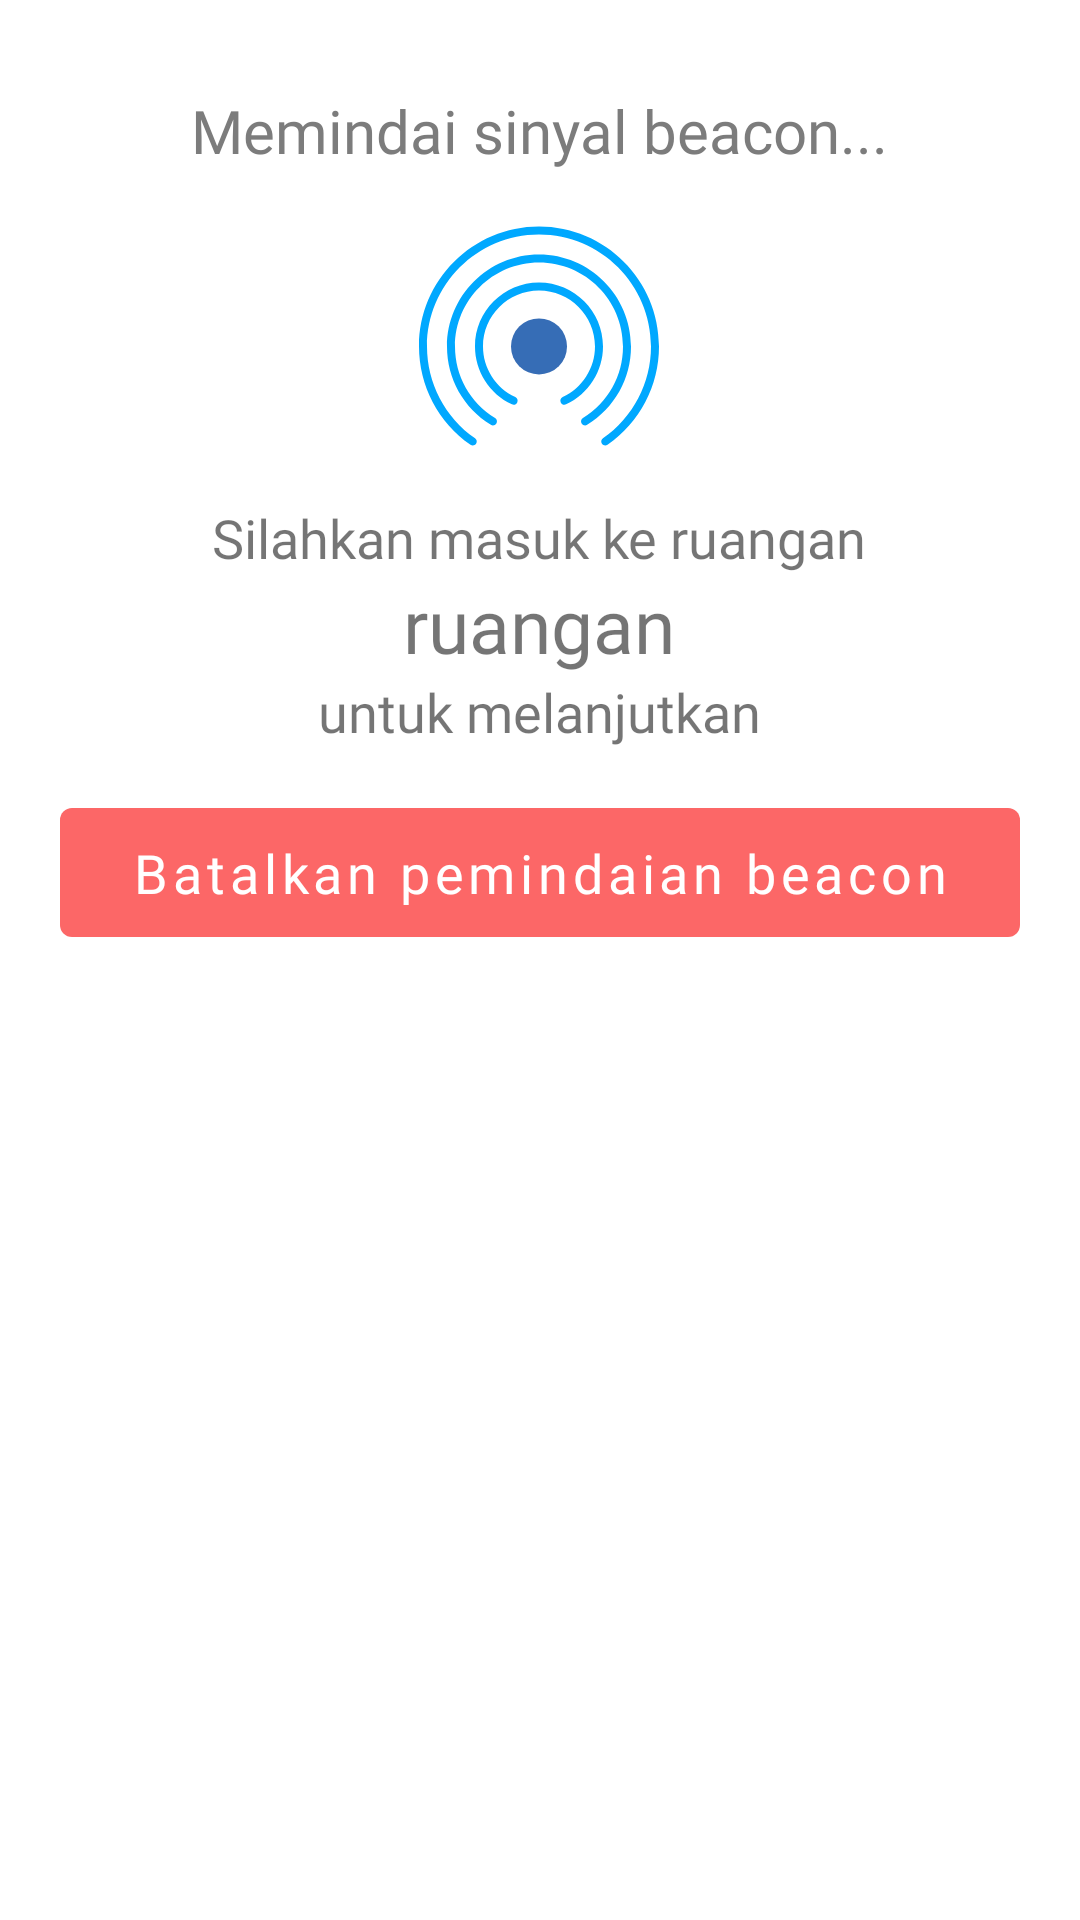

Point at icon controls on the screen. Image size 1080×1920, points as [x,y].
signal: [539,336]
